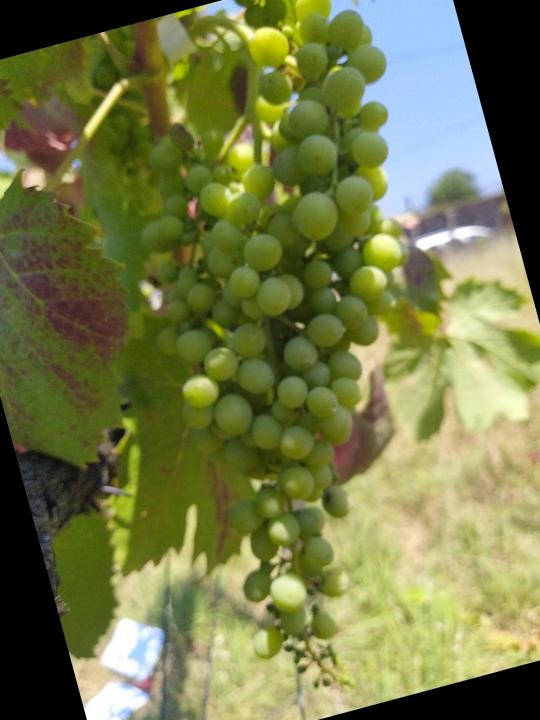grape: (81, 0, 540, 708)
